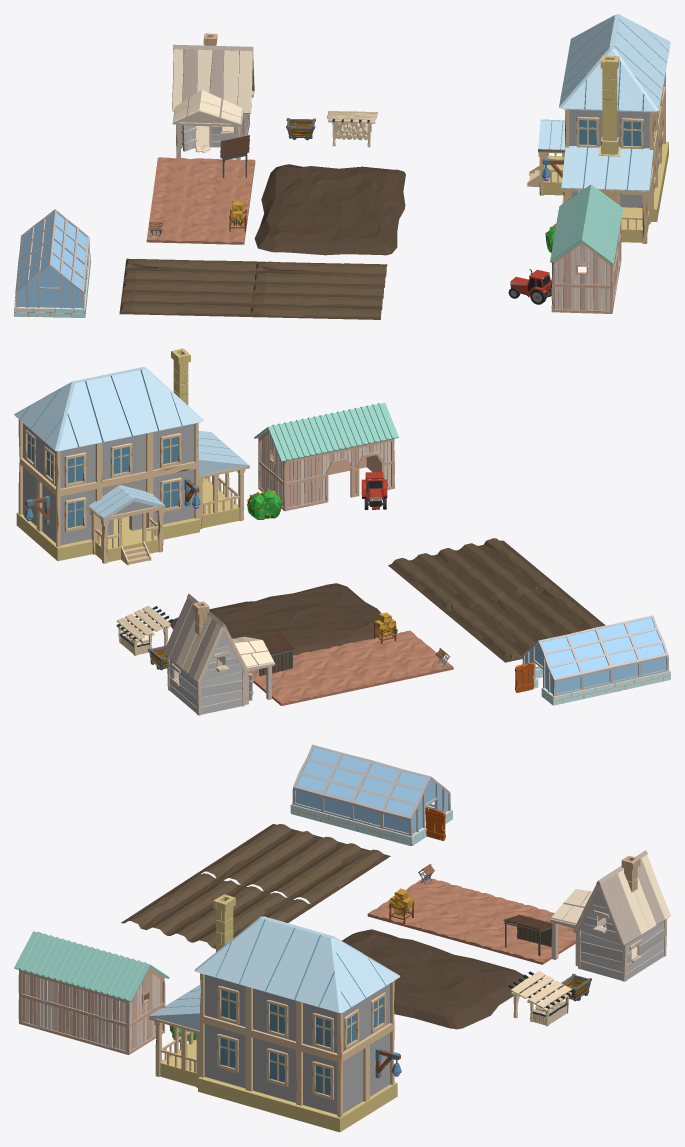
Rendered from dao1scene.gltf.
The picture shows the model from 3 angles, top to bottom: view 1: azimuth 30°, elevation 25°; view 2: azimuth 150°, elevation 25°; view 3: azimuth 270°, elevation 25°; orthographic projection. The views are drawn at different scales.
Parts seen in each view (by area): view 1: node__House_2Group_MeshRendererMap_5_28996, node_SM_Env_Dirt_Skirt_01_26232, node__Group_MeshRendererMap_2Fence_2__5_1_30106, node_polySurface4_27696, node__Shed_1bMap_6_27474, node_SM_Env_Dirt_Rows_End_Bottom_01_1_25726, node_SM_Env_Dirt_Rows_End_Bottom_01_29892, node__Map_6GreenHouse_29604, node__Group_MeshRendererMap_2Woodshed_001_1Woodshed__1__2979, node_SPW_Vehicle_Land_Static_Tractor_Color02_002_29244, node_SM_Bld_Shelter_01_26488, node_M_Trolley_1_29806; view 2: node__House_2Group_MeshRendererMap_5_28996, node__Shed_1bMap_6_27474, node__Map_6GreenHouse_29604, node__Group_MeshRendererMap_2Fence_2__5_1_30106, node_polySurface4_27696, node_SM_Env_Dirt_Skirt_01_26232, node_SM_Env_Dirt_Rows_End_Bottom_01_29892, node_SM_Env_Dirt_Rows_End_Bottom_01_1_25726, node__Group_MeshRendererMap_2Woodshed_001_1Woodshed__1__2979, node_SM_Bld_Shelter_01_26488, node_SPW_Vehicle_Land_Static_Tractor_Color02_002_29244, node_Bush1_WF__7__29494; view 3: node__House_2Group_MeshRendererMap_5_28996, node__Shed_1bMap_6_27474, node__Map_6GreenHouse_29604, node__Group_MeshRendererMap_2Fence_2__5_1_30106, node_SM_Env_Dirt_Skirt_01_26232, node_SM_Env_Dirt_Rows_End_Bottom_01_1_25726, node_polySurface4_27696, node_SM_Env_Dirt_Rows_End_Bottom_01_29892, node__Group_MeshRendererMap_2Woodshed_001_1Woodshed__1__2979, node_SM_Bld_Shelter_01_26488, node__Group_MeshRendererMap_3Feeder_2_w_Hay1_26376.
Boxes of the visible parts, x1,y1,x2,y2 form: node__House_2Group_MeshRendererMap_5_28996: [527, 14, 670, 243]; node_SM_Env_Dirt_Skirt_01_26232: [254, 164, 405, 255]; node__Group_MeshRendererMap_2Fence_2__5_1_30106: [172, 33, 254, 160]; node_polySurface4_27696: [146, 157, 255, 244]; node__Shed_1bMap_6_27474: [550, 184, 623, 313]; node_SM_Env_Dirt_Rows_End_Bottom_01_1_25726: [119, 258, 257, 316]; node_SM_Env_Dirt_Rows_End_Bottom_01_29892: [250, 261, 387, 319]; node__Map_6GreenHouse_29604: [14, 209, 90, 317]; node__Group_MeshRendererMap_2Woodshed_001_1Woodshed__1__2979: [326, 111, 377, 147]; node_SPW_Vehicle_Land_Static_Tractor_Color02_002_29244: [508, 269, 551, 304]; node_SM_Bld_Shelter_01_26488: [220, 135, 249, 177]; node_M_Trolley_1_29806: [286, 118, 315, 140]; node__House_2Group_MeshRendererMap_5_28996: [14, 348, 249, 565]; node__Shed_1bMap_6_27474: [254, 403, 398, 511]; node__Map_6GreenHouse_29604: [514, 615, 670, 705]; node__Group_MeshRendererMap_2Fence_2__5_1_30106: [163, 593, 275, 715]; node_polySurface4_27696: [248, 630, 453, 705]; node_SM_Env_Dirt_Skirt_01_26232: [170, 583, 397, 664]; node_SM_Env_Dirt_Rows_End_Bottom_01_29892: [388, 538, 561, 613]; node_SM_Env_Dirt_Rows_End_Bottom_01_1_25726: [447, 586, 605, 662]; node__Group_MeshRendererMap_2Woodshed_001_1Woodshed__1__2979: [116, 605, 173, 655]; node_SM_Bld_Shelter_01_26488: [256, 632, 294, 676]; node_SPW_Vehicle_Land_Static_Tractor_Color02_002_29244: [361, 472, 387, 509]; node_Bush1_WF__7__29494: [247, 489, 282, 519]; node__House_2Group_MeshRendererMap_5_28996: [149, 894, 401, 1132]; node__Shed_1bMap_6_27474: [14, 931, 169, 1054]; node__Map_6GreenHouse_29604: [290, 744, 452, 845]; node__Group_MeshRendererMap_2Fence_2__5_1_30106: [550, 850, 670, 981]; node_SM_Env_Dirt_Skirt_01_26232: [342, 929, 534, 1029]; node_SM_Env_Dirt_Rows_End_Bottom_01_1_25726: [197, 824, 390, 905]; node_polySurface4_27696: [367, 877, 575, 964]; node_SM_Env_Dirt_Rows_End_Bottom_01_29892: [121, 873, 313, 948]; node__Group_MeshRendererMap_2Woodshed_001_1Woodshed__1__2979: [508, 971, 571, 1026]; node_SM_Bld_Shelter_01_26488: [503, 914, 552, 956]; node__Group_MeshRendererMap_3Feeder_2_w_Hay1_26376: [389, 888, 413, 923].
Size of what is drawn, in the model's own units: 26.03 by 6.36 by 20.94.
